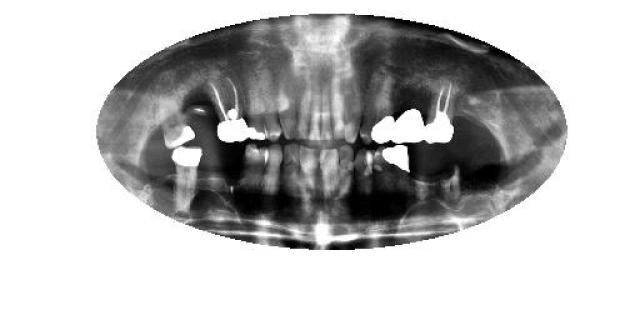Cavity: (438, 165, 464, 204)
Fillings: (172, 144, 202, 214), (156, 101, 195, 150), (369, 77, 395, 145), (381, 144, 411, 194), (394, 107, 424, 145), (246, 84, 265, 142)
Implant: (423, 75, 455, 149), (213, 74, 245, 144)
